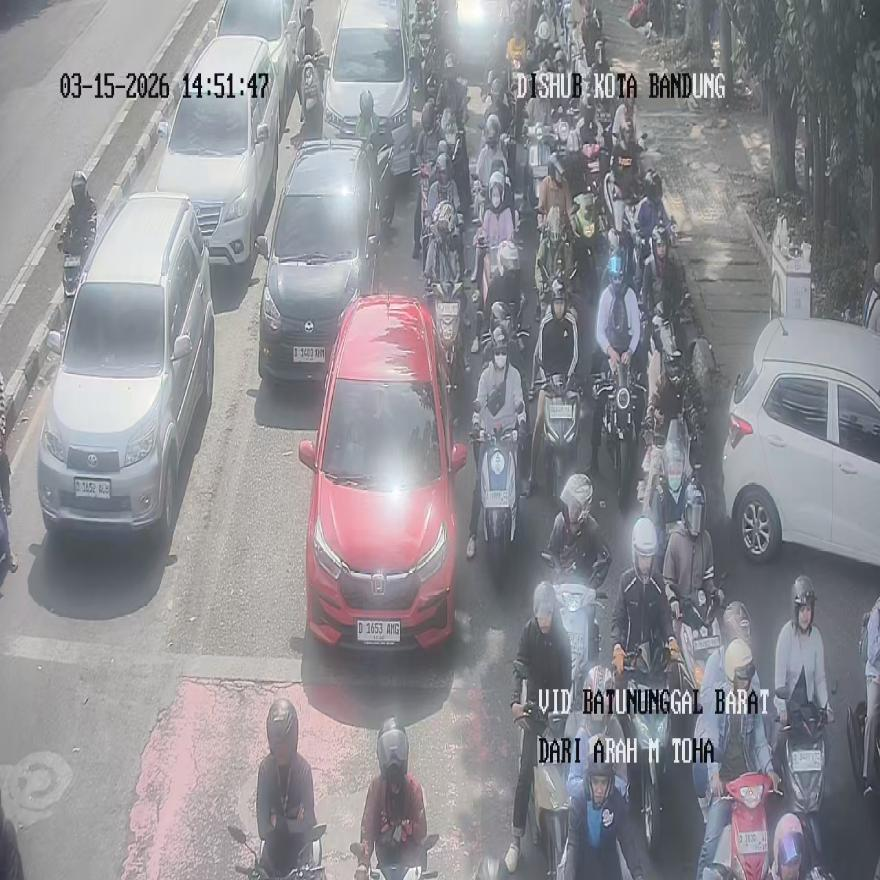Motor: (38, 193, 216, 543), (299, 295, 468, 649), (723, 319, 879, 566), (254, 141, 380, 379), (157, 37, 284, 268), (324, 0, 417, 172)
Truk: (542, 553, 607, 699), (645, 301, 707, 452), (776, 689, 827, 864), (472, 401, 519, 586), (643, 418, 697, 568), (704, 773, 780, 879), (594, 362, 646, 509), (624, 712, 670, 856), (228, 819, 326, 879), (515, 660, 573, 756), (537, 376, 580, 499), (477, 299, 528, 400), (478, 273, 529, 364), (676, 588, 721, 690), (425, 282, 465, 391), (572, 192, 603, 301), (535, 245, 578, 321), (424, 202, 462, 284), (603, 170, 642, 248), (442, 108, 470, 215), (603, 172, 638, 250), (524, 125, 557, 206), (473, 229, 501, 312), (300, 54, 327, 140), (413, 162, 433, 271), (61, 230, 93, 297), (507, 38, 527, 143), (474, 229, 499, 311), (847, 700, 867, 794), (847, 701, 866, 793), (377, 142, 395, 238), (582, 137, 603, 196), (533, 13, 556, 66), (470, 163, 488, 226), (371, 865, 437, 879), (554, 107, 571, 154), (593, 35, 610, 76)
